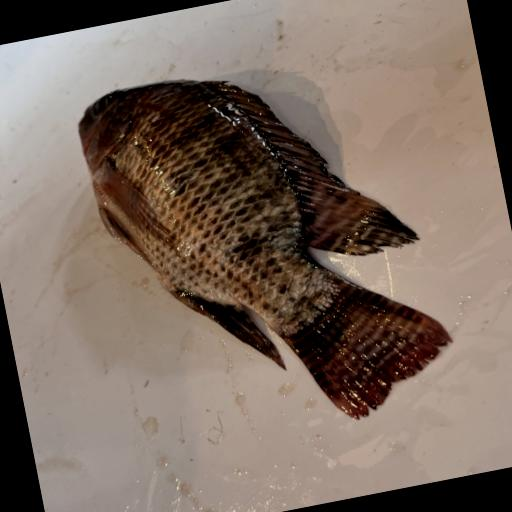Tilapia: (71, 36, 465, 463)
